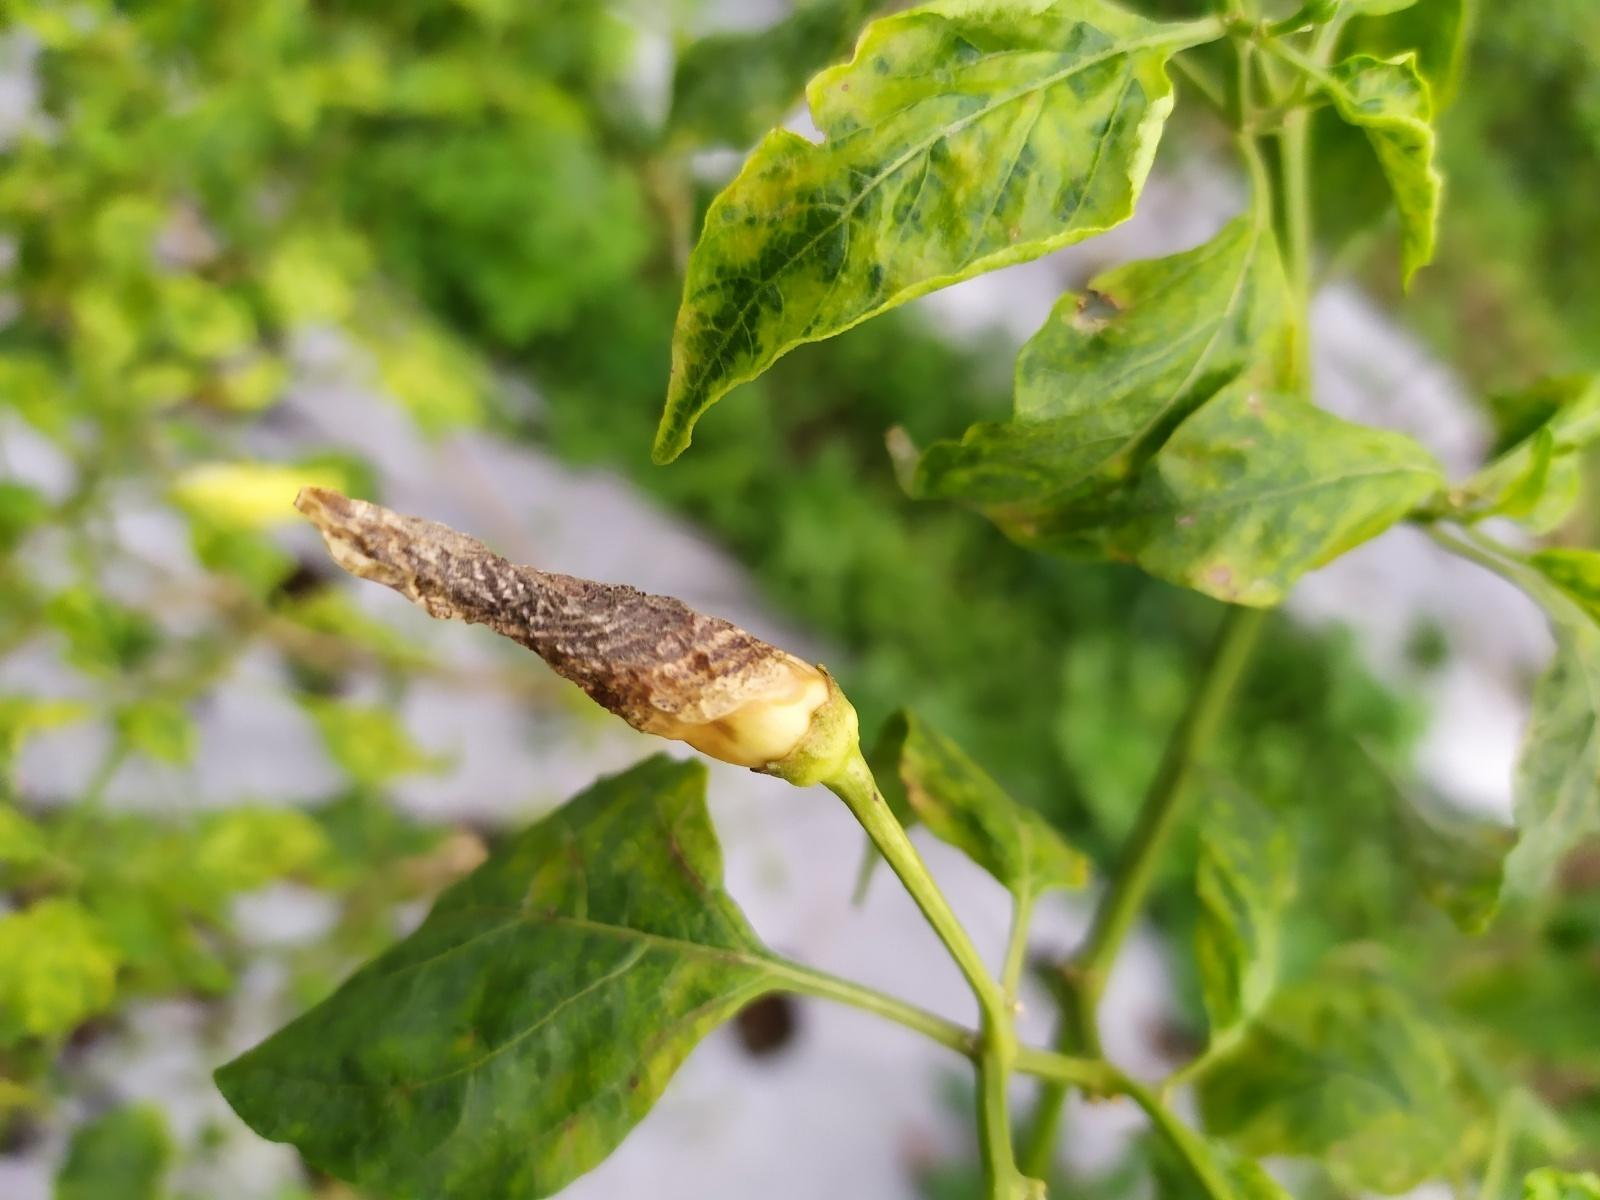antraknosa: (291, 489, 834, 773)
